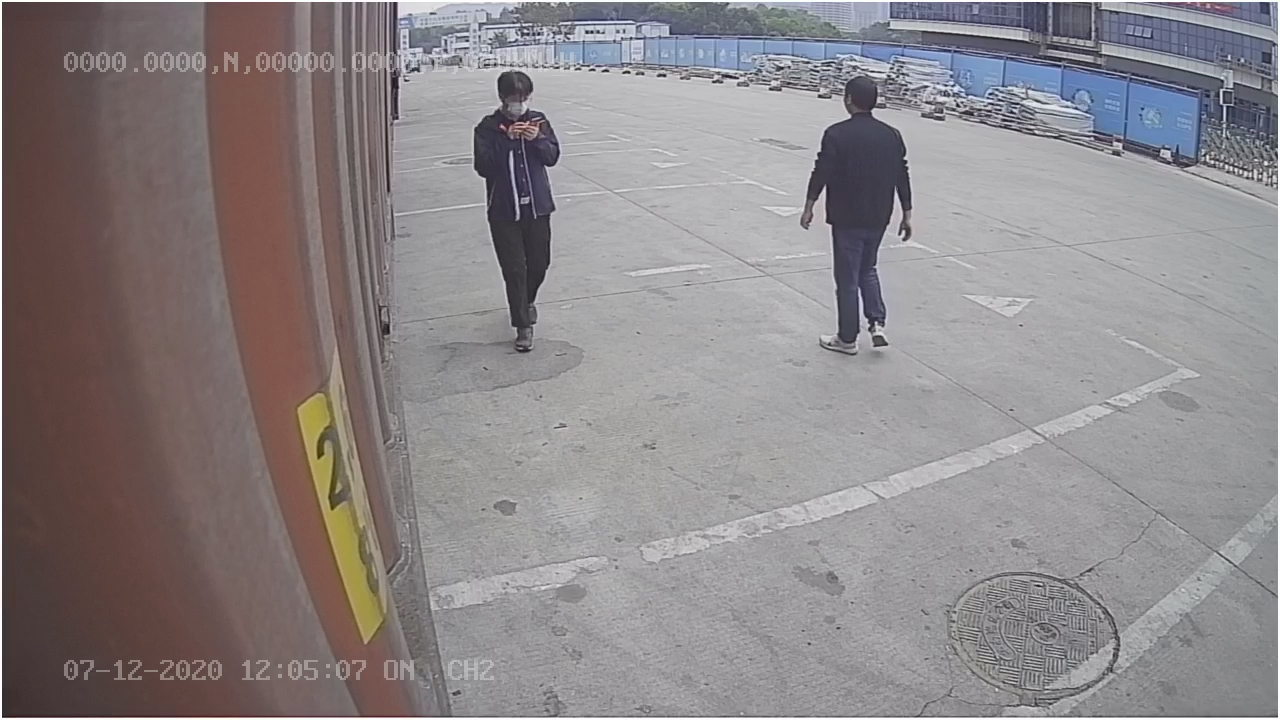person: (799, 71, 913, 361), (473, 64, 563, 352)
